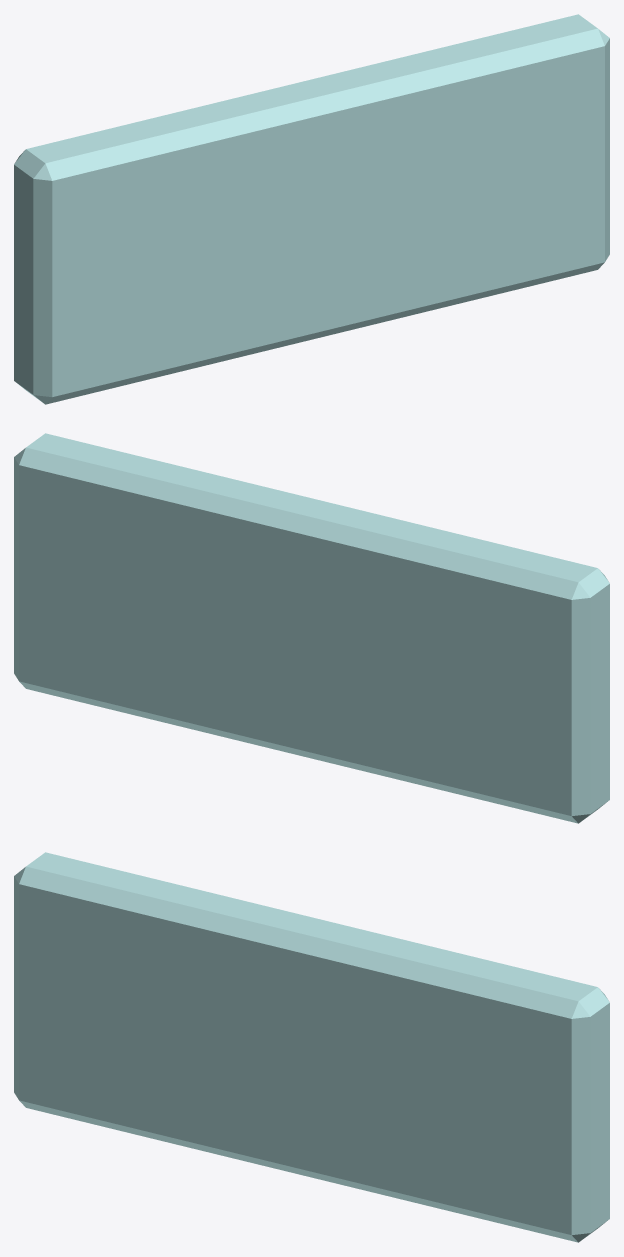
File: Matching Card  Sign.fbx
3 renders of one model, top to bottom at view 1: azimuth 30°, elevation 25°; view 2: azimuth 150°, elevation 25°; view 3: azimuth 330°, elevation 25°, orthographic.
Visible parts, largest first — view 1: Sign; view 2: Sign; view 3: Sign.
Part boxes in pixels (x1,y1,x2,y2): Sign: (14,14,609,404); Sign: (14,433,609,823); Sign: (14,852,609,1242).
Bounding box in the file's own units: 100 × 40 × 10.
